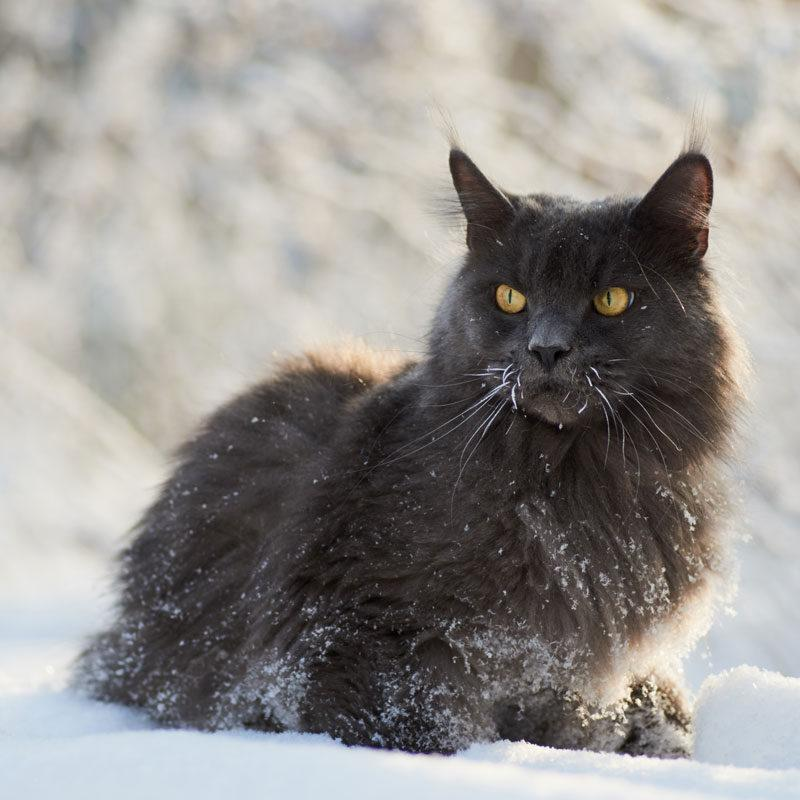Cat: (424, 117, 761, 446)
